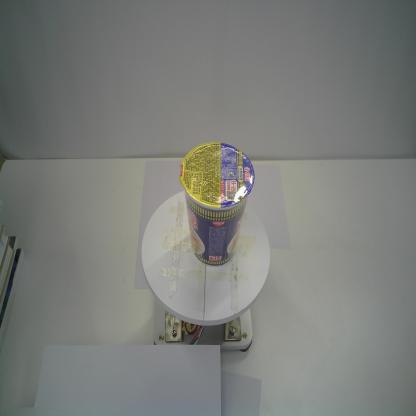Instant Noodles: (179, 141, 255, 266)
